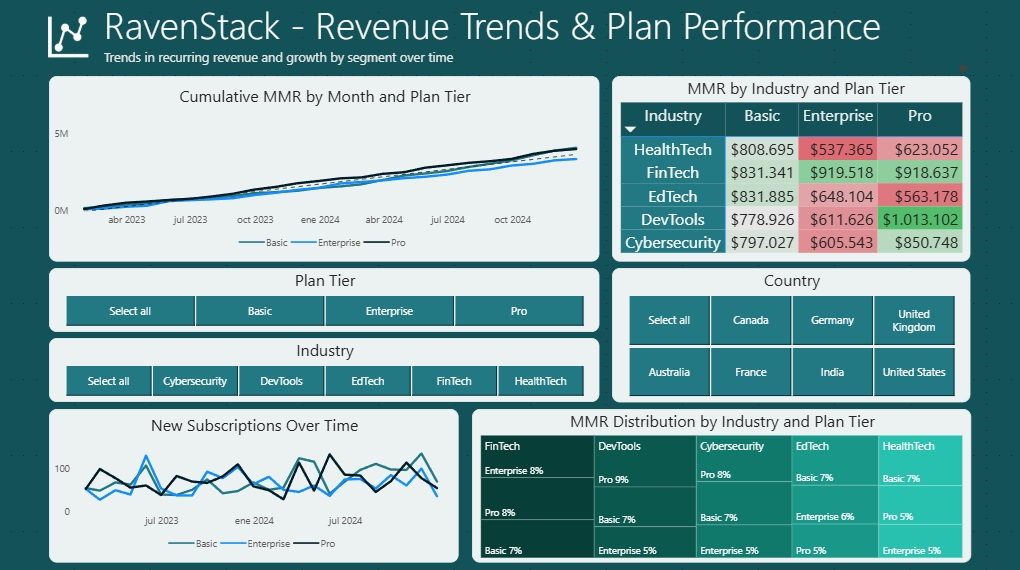

The dashboard page shown, as its layout file describes it:
{"tool":"powerbi","page":{"name":"Rev. Trend & Plan Perf.","canvas":[1280,720],"ordinal":1},"visuals":[{"type":"image","box":[48,8,80,80],"z":0},{"type":"textbox","title":"RavenStack - Revenue Trends & Plan Performance","box":[128,0,1088,96],"z":1000},{"type":"slicer","title":"Country","fields":{"Values":["country_mapping.Country Name"]},"box":[768,336,448,168],"z":2000},{"type":"slicer","title":"Plan Tier","fields":{"Values":["vw_account_summary.plan_tier"]},"box":[64,336,688,80],"z":3000},{"type":"slicer","title":"Industry","fields":{"Values":["vw_account_summary.industry"]},"box":[64,424,688,80],"z":4000},{"type":"lineChart","title":"Cumulative MMR by Month and Plan Tier","fields":{"Series":["vw_account_summary.plan_tier"],"Y":["Measures Table.Cumulative MRR"],"Category":["DateTable.EndOfMonth"]},"box":[64,96,688,232],"z":5000},{"type":"pivotTable","title":"MMR by Industry and Plan Tier","fields":{"Columns":["vw_account_summary.plan_tier"],"Rows":["vw_account_summary.industry"],"Values":["Measures Table.Total MMR for Heatmap"]},"box":[768,96,448,232],"z":6000},{"type":"lineChart","title":"New Subscriptions Over Time","fields":{"Series":["vw_account_summary.plan_tier"],"Category":["DateTable.EndOfMonth"],"Y":["Sum(vw_account_summary.subscription_count)"]},"box":[64,512,512,192],"z":7000},{"type":"treemap","title":"MMR Distribution by Industry and Plan Tier","fields":{"Values":["Measures Table.Total MRR"],"Group":["vw_account_summary.industry"],"Details":["vw_account_summary.plan_tier"]},"box":[592,512,624,192],"z":8000}]}

Visuals, with their boxes in screenshot pixels (x1, y1, x2, y2), scaled from the page's 1280x720 canvas onto the 1020x570 screenshot:
image: box=[38, 6, 102, 70]
"RavenStack - Revenue Trends & Plan Performance" textbox: box=[102, 0, 969, 76]
"Country" slicer: box=[612, 266, 969, 399]
"Plan Tier" slicer: box=[51, 266, 599, 329]
"Industry" slicer: box=[51, 336, 599, 399]
"Cumulative MMR by Month and Plan Tier" lineChart: box=[51, 76, 599, 260]
"MMR by Industry and Plan Tier" pivotTable: box=[612, 76, 969, 260]
"New Subscriptions Over Time" lineChart: box=[51, 405, 459, 557]
"MMR Distribution by Industry and Plan Tier" treemap: box=[472, 405, 969, 557]
